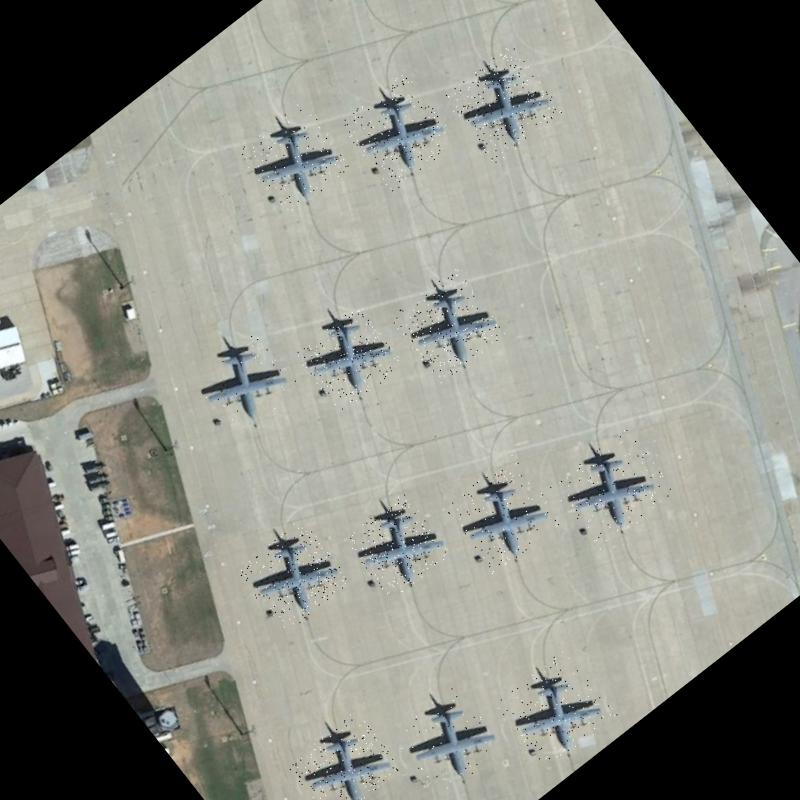A2: (550, 427, 678, 552), (442, 453, 565, 576), (494, 648, 618, 770), (443, 44, 564, 164), (338, 72, 458, 192), (182, 326, 303, 445), (236, 101, 354, 220), (390, 266, 508, 384), (235, 516, 352, 634), (389, 682, 506, 798), (294, 304, 406, 414), (344, 492, 453, 600), (286, 709, 403, 800)
